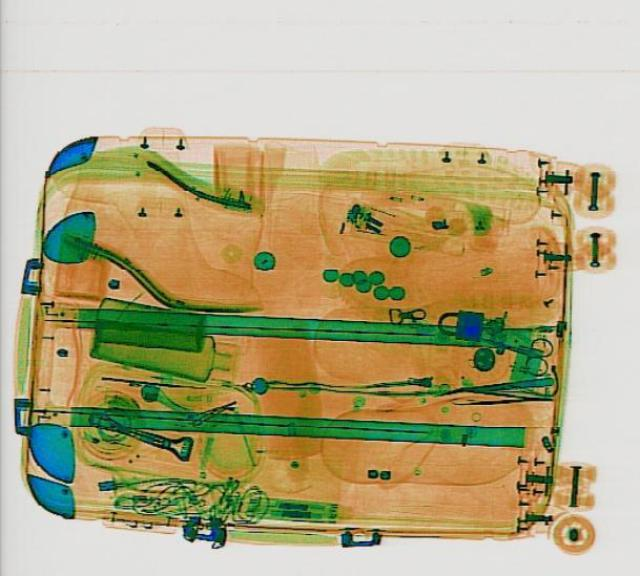Scissors: (466, 315, 560, 376)
